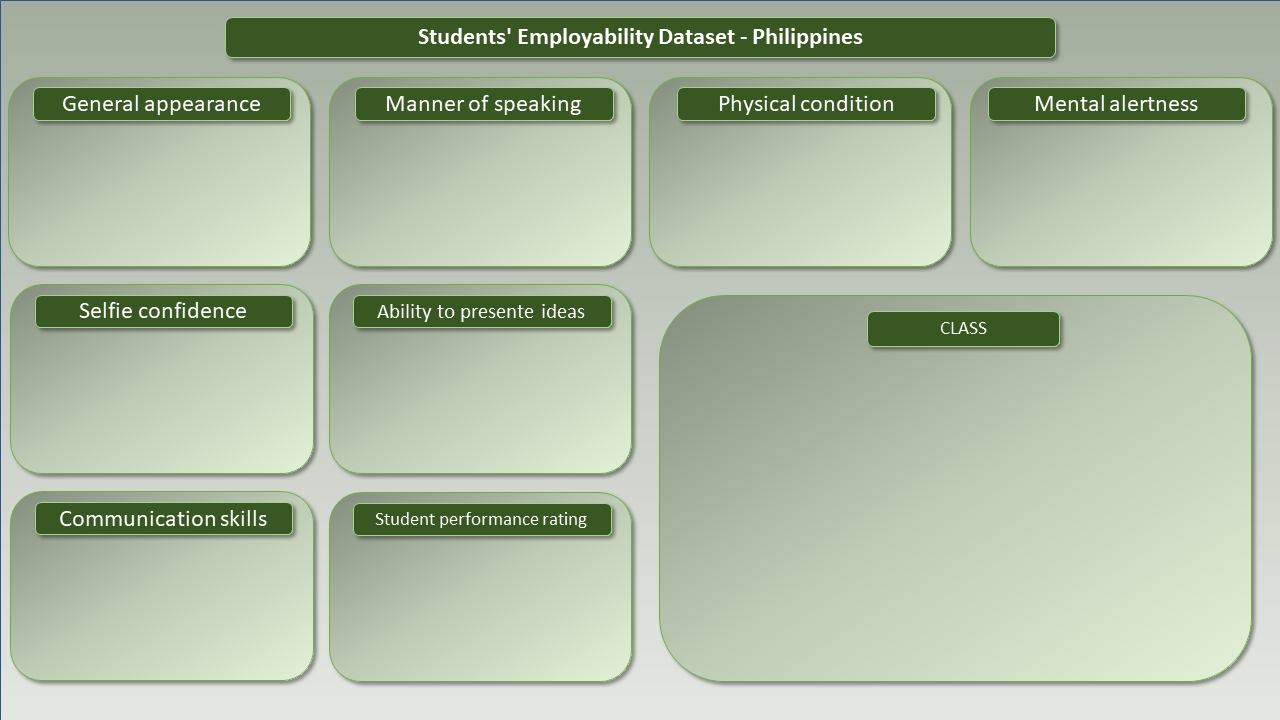

This screenshot's page, from the dashboard's own definition file:
{"tool":"powerbi","page":{"name":"Employability","canvas":[1280,720],"ordinal":0},"visuals":[{"type":"clusteredColumnChart","fields":{"Category":["Data.GENERAL APPEARANCE"],"Y":["CountNonNull(Data.N studantes)"]},"box":[12.1,122.9,293.6,122.9],"z":0},{"type":"clusteredColumnChart","fields":{"Y":["CountNonNull(Data.N studantes)"],"Category":["Data.MANNER OF SPEAKING"]},"box":[335,123.3,293.3,122.5],"z":1000},{"type":"clusteredColumnChart","fields":{"Y":["CountNonNull(Data.N studantes)"],"Category":["Data.PHYSICAL CONDITION"]},"box":[655,123,293,123],"z":2000},{"type":"clusteredColumnChart","fields":{"Y":["CountNonNull(Data.N studantes)"],"Category":["Data.MENTAL ALERTNESS"]},"box":[977,123,293,123],"z":3000},{"type":"clusteredColumnChart","fields":{"Y":["CountNonNull(Data.N studantes)"],"Category":["Data.SELF-CONFIDENCE"]},"box":[12,332,294,123],"z":4000},{"type":"clusteredColumnChart","fields":{"Y":["CountNonNull(Data.N studantes)"],"Category":["Data.ABILITY TO PRESENT IDEAS"]},"box":[335,332,294,123],"z":5000},{"type":"clusteredColumnChart","fields":{"Y":["CountNonNull(Data.N studantes)"],"Category":["Data.SELF-CONFIDENCE"]},"box":[12,538,294,123],"z":6000},{"type":"clusteredColumnChart","fields":{"Y":["CountNonNull(Data.N studantes)"],"Category":["Data.ABILITY TO PRESENT IDEAS"]},"box":[335,538,294,123],"z":7000},{"type":"pieChart","fields":{"Y":["CountNonNull(Data.N studantes)"],"Category":["Data.CLASS"]},"box":[655.6,345.6,594.4,328.9],"z":8000}]}

Visuals, with their boxes in screenshot pixels (x1, y1, x2, y2), scaled from the page's 1280x720 canvas onto the 1280x720 screenshot:
clusteredColumnChart - Data.GENERAL APPEARANCE x CountNonNull(Data.N studantes): rect(12, 123, 306, 246)
clusteredColumnChart - CountNonNull(Data.N studantes) x Data.MANNER OF SPEAKING: rect(335, 123, 628, 246)
clusteredColumnChart - CountNonNull(Data.N studantes) x Data.PHYSICAL CONDITION: rect(655, 123, 948, 246)
clusteredColumnChart - CountNonNull(Data.N studantes) x Data.MENTAL ALERTNESS: rect(977, 123, 1270, 246)
clusteredColumnChart - CountNonNull(Data.N studantes) x Data.SELF-CONFIDENCE: rect(12, 332, 306, 455)
clusteredColumnChart - CountNonNull(Data.N studantes) x Data.ABILITY TO PRESENT IDEAS: rect(335, 332, 629, 455)
clusteredColumnChart - CountNonNull(Data.N studantes) x Data.SELF-CONFIDENCE: rect(12, 538, 306, 661)
clusteredColumnChart - CountNonNull(Data.N studantes) x Data.ABILITY TO PRESENT IDEAS: rect(335, 538, 629, 661)
pieChart - CountNonNull(Data.N studantes) x Data.CLASS: rect(656, 346, 1250, 674)
